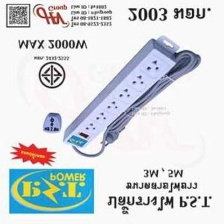three_eye_plug: (60, 36, 178, 150), (39, 109, 62, 136)
